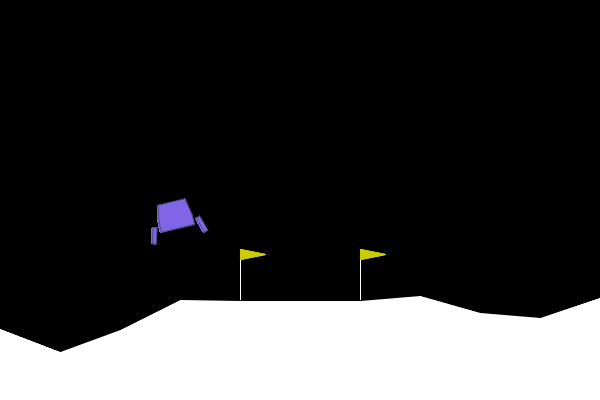lander: (141, 193, 209, 246)
